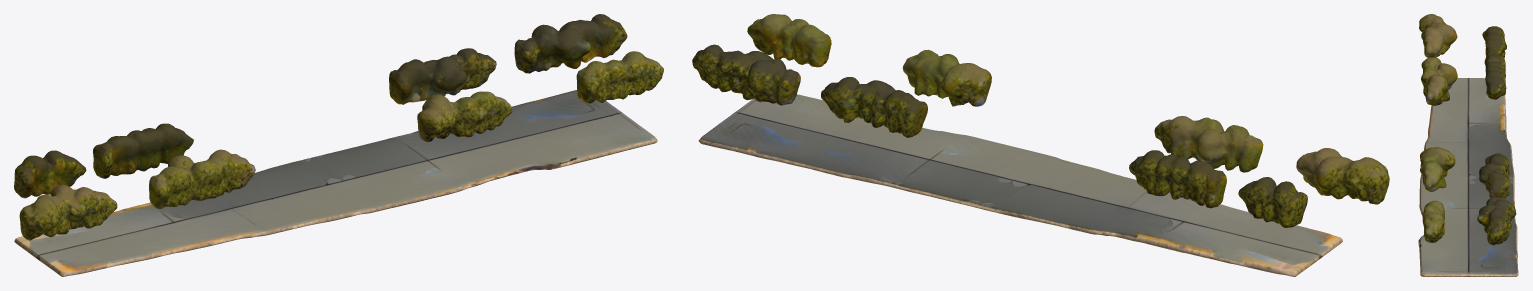
The model's file is A_Concrete_Road_Through_a_Countryside_Landscape.glb.
3 views of the same model, side by side, from view 1: azimuth 30°, elevation 25°; view 2: azimuth 150°, elevation 25°; view 3: azimuth 270°, elevation 25° (orthographic). The views are drawn at different scales.
Parts seen in each view (by area): view 1: tripo_node_503ca0bb-443d-44ac-8e96-a888d7cf1d01; view 2: tripo_node_503ca0bb-443d-44ac-8e96-a888d7cf1d01; view 3: tripo_node_503ca0bb-443d-44ac-8e96-a888d7cf1d01.
Boxes of the visible parts, box(x1,y1,x2,y2) form: tripo_node_503ca0bb-443d-44ac-8e96-a888d7cf1d01: box(14, 14, 663, 276); tripo_node_503ca0bb-443d-44ac-8e96-a888d7cf1d01: box(692, 14, 1389, 276); tripo_node_503ca0bb-443d-44ac-8e96-a888d7cf1d01: box(1418, 14, 1518, 276).
Size of the model in its own units: 1 by 0.1312 by 0.1952.
Materials: 1 (1 with a texture image).
